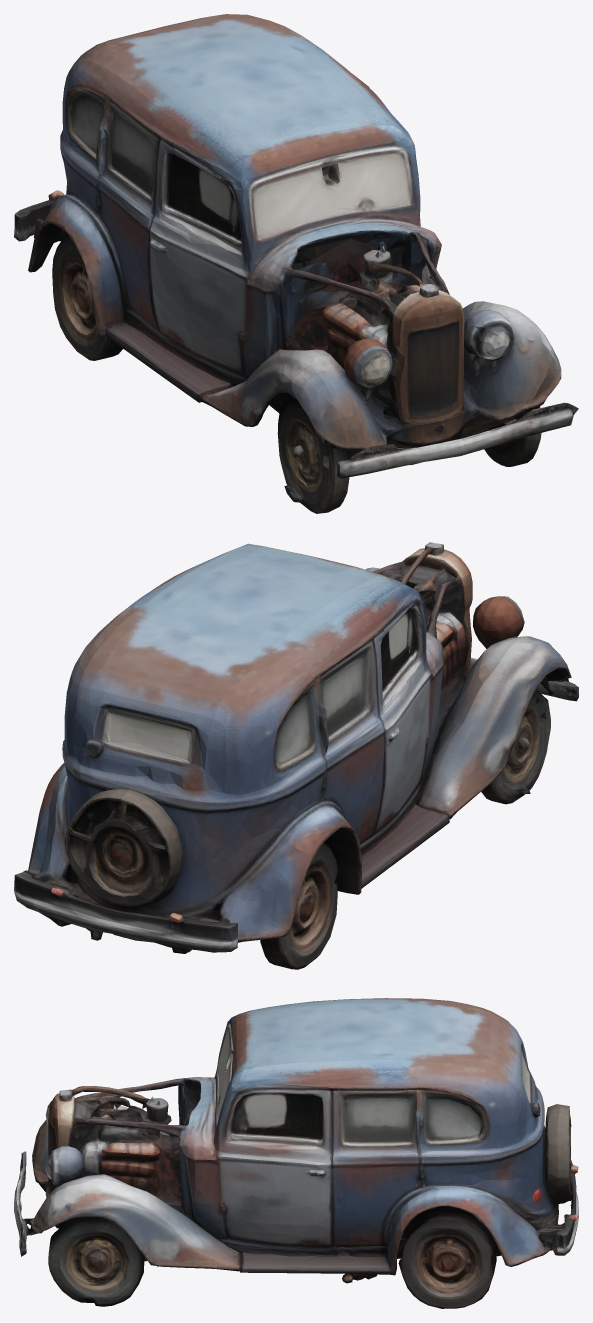
Rendered from sample (2).glb.
The picture shows the model from 3 angles, top to bottom: view 1: azimuth 30°, elevation 25°; view 2: azimuth 150°, elevation 25°; view 3: azimuth 270°, elevation 25°; orthographic projection. The views are drawn at different scales.
Visible parts, largest first — view 1: world; view 2: world; view 3: world.
Part boxes in pixels (x1,y1,x2,y2): world: [14, 14, 578, 513]; world: [14, 542, 578, 969]; world: [14, 998, 578, 1308].
Bounding box in the file's own units: 0.4448 × 0.4673 × 0.9999.
Materials: 1 (1 with a texture image).
